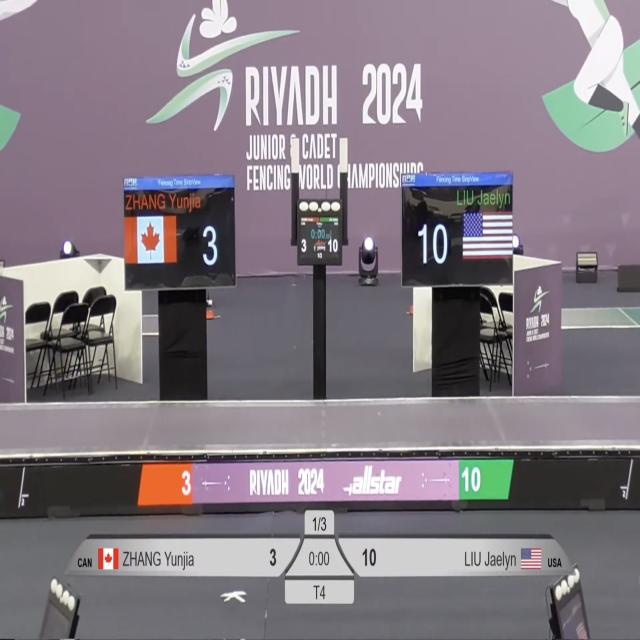overlayLeft: (66, 531, 248, 579)
overlayRight: (389, 538, 575, 577)
scoreLeft: (253, 535, 302, 575)
scoreRight: (334, 538, 381, 576)
